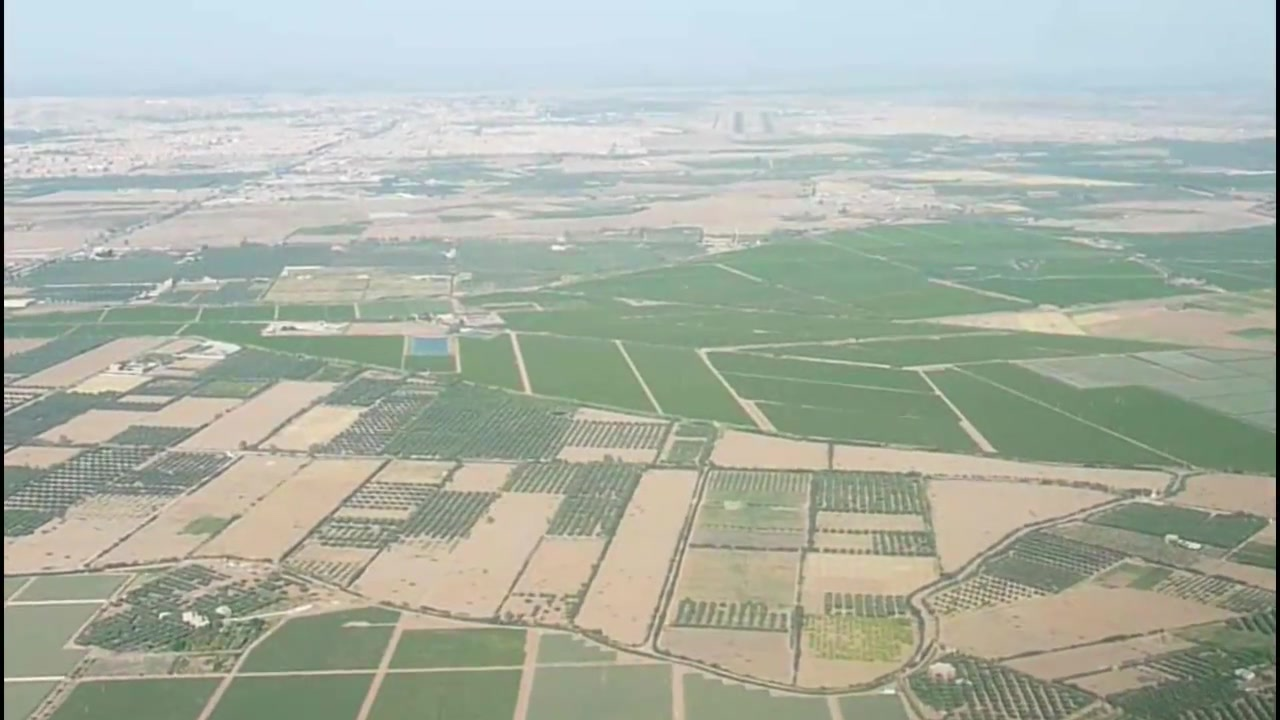runway: (730, 111, 746, 136)
